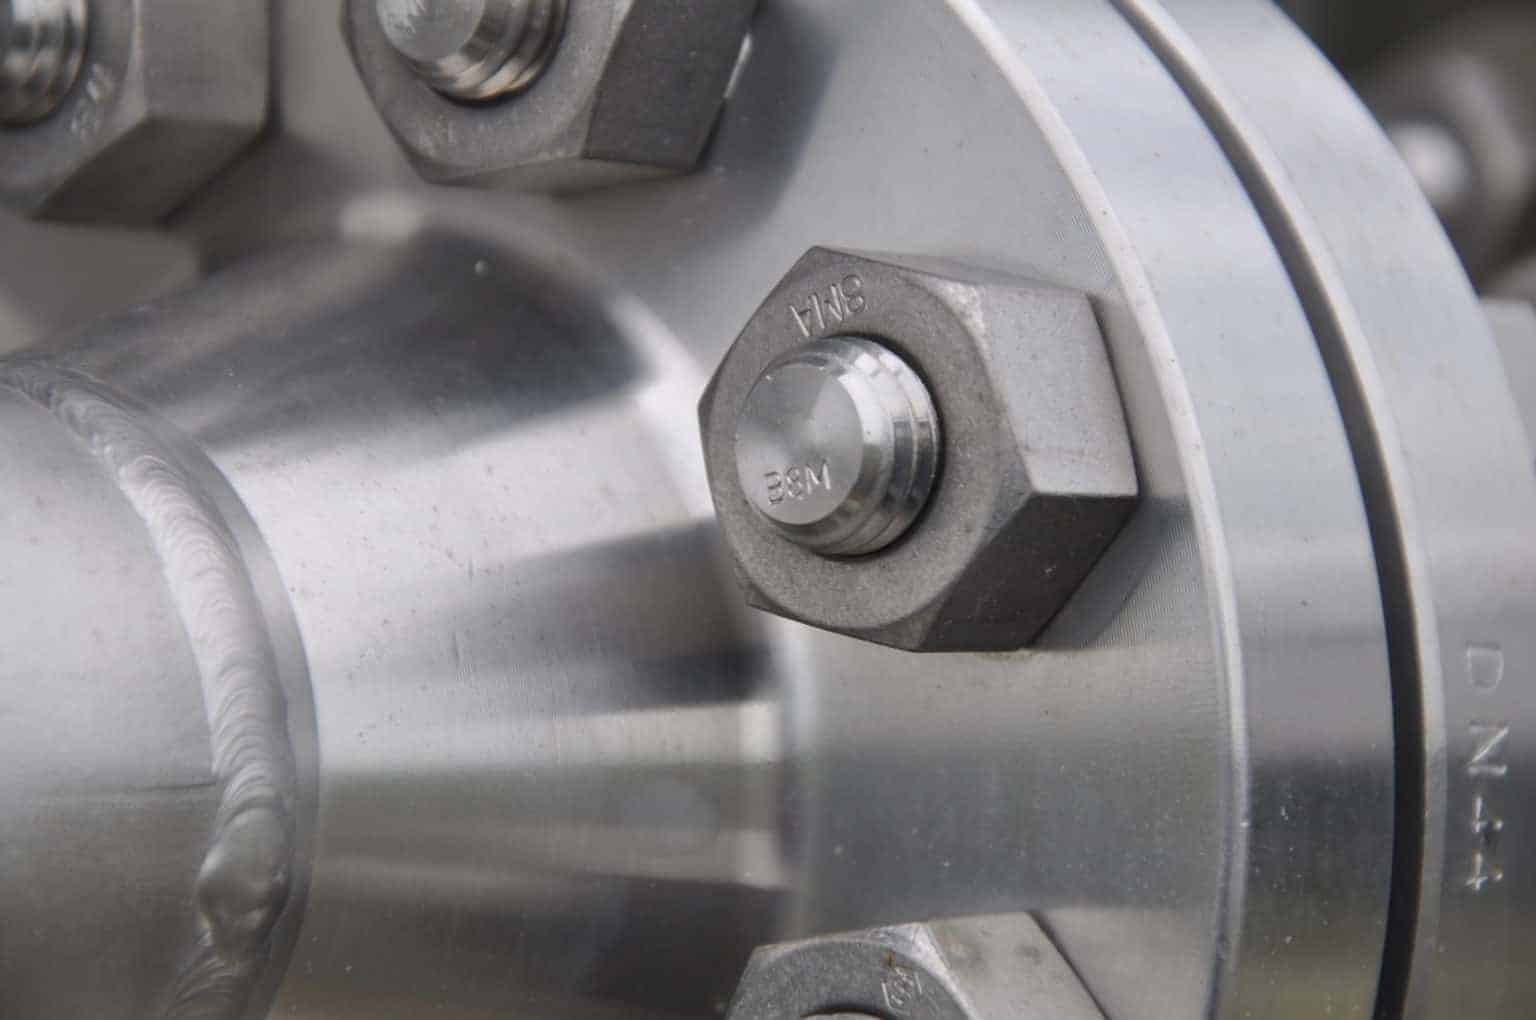bolt_b: (695, 242, 1146, 657)
